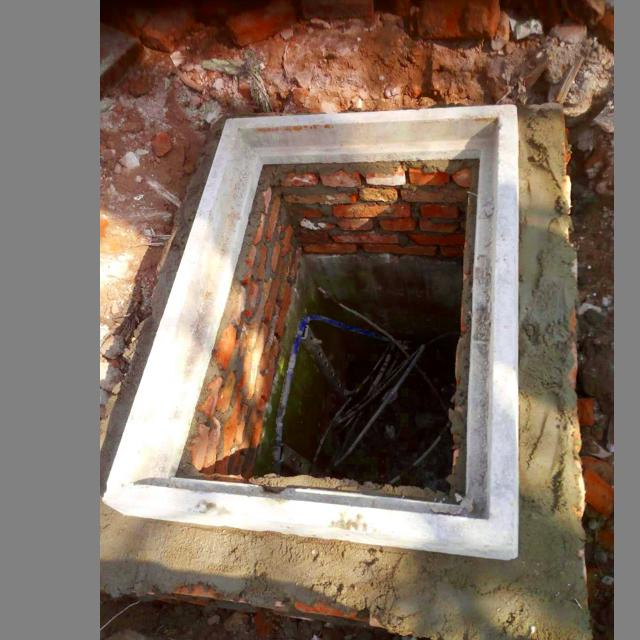lose: (100, 102, 520, 559)
